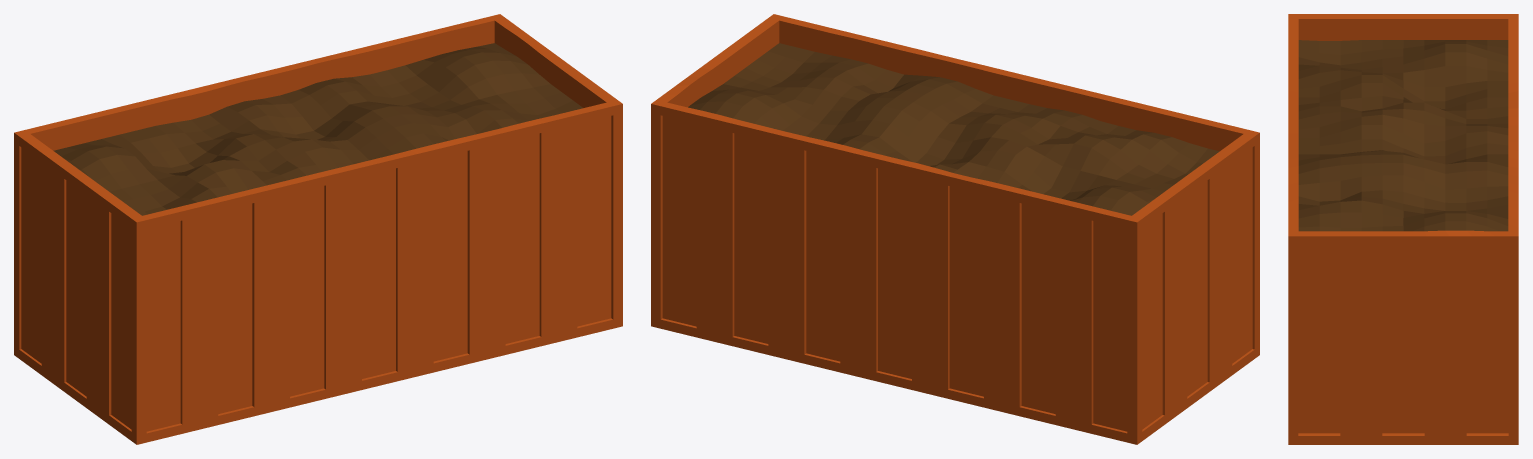
3 views of the same model, side by side, from view 1: azimuth 30°, elevation 25°; view 2: azimuth 150°, elevation 25°; view 3: azimuth 270°, elevation 25° (orthographic). The views are drawn at different scales.
Visible parts, largest first — view 1: D-6; view 2: D-6; view 3: D-6.
Part boxes in pixels (bbox=[...]): D-6: bbox=[14, 14, 622, 444]; D-6: bbox=[651, 14, 1259, 444]; D-6: bbox=[1288, 14, 1518, 444].
Bounding box in the file's own units: 2124 × 933 × 929.
